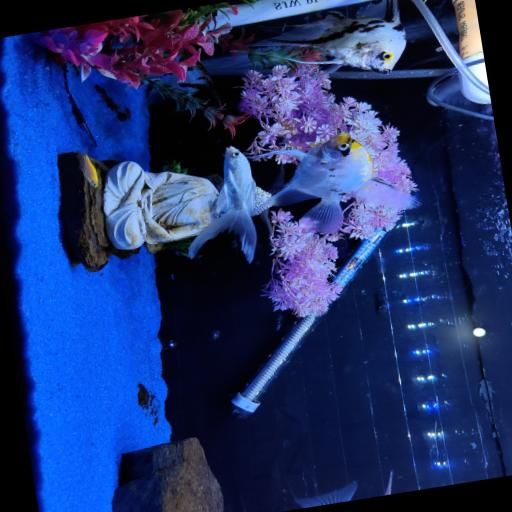Fish: (250, 132, 418, 232), (250, 0, 405, 73), (188, 146, 256, 261), (294, 481, 356, 507), (79, 153, 97, 186)
